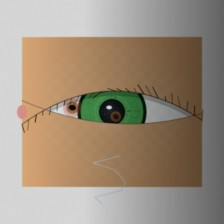foreign_body_visible: (54, 93, 91, 122)
